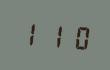one: (18, 17, 41, 49), (43, 19, 66, 50)
zero: (67, 20, 90, 52)
